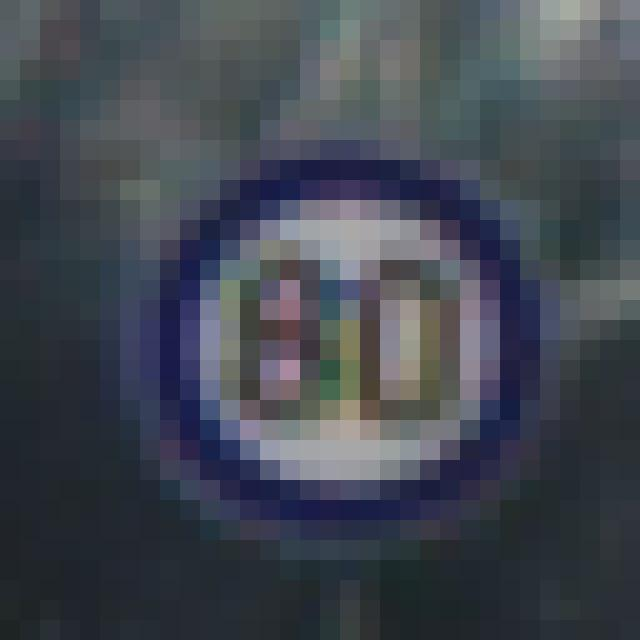SPEED-LIMIT-80: (132, 145, 548, 550)
